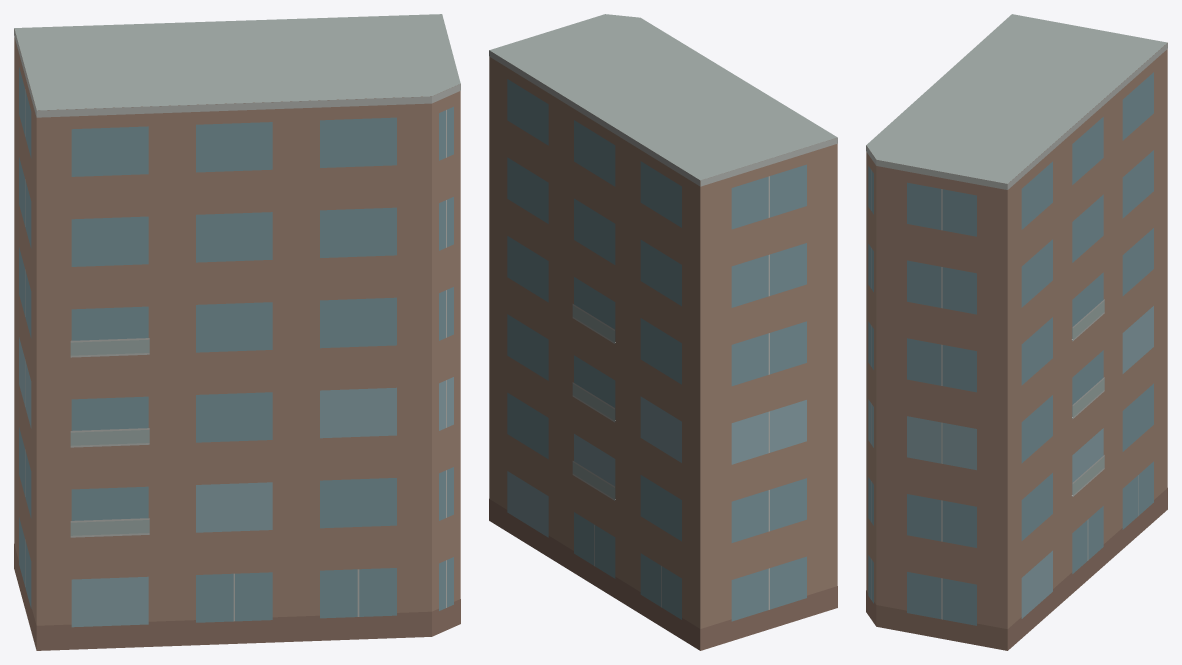
The model's file is survey-upis-32531667.glb.
3 renders of one model, left to right at view 1: azimuth 30°, elevation 25°; view 2: azimuth 150°, elevation 25°; view 3: azimuth 270°, elevation 25°, orthographic. The views are drawn at different scales.
Visible parts, largest first — view 1: survey-upis-32531667.tmp; view 2: survey-upis-32531667.tmp; view 3: survey-upis-32531667.tmp.
Boxes of the visible parts, x1,y1,x2,y2 form: survey-upis-32531667.tmp: [14, 14, 460, 650]; survey-upis-32531667.tmp: [489, 14, 837, 650]; survey-upis-32531667.tmp: [866, 14, 1167, 650].
Size of the model in its own units: 14.37 by 18.4 by 10.78.
